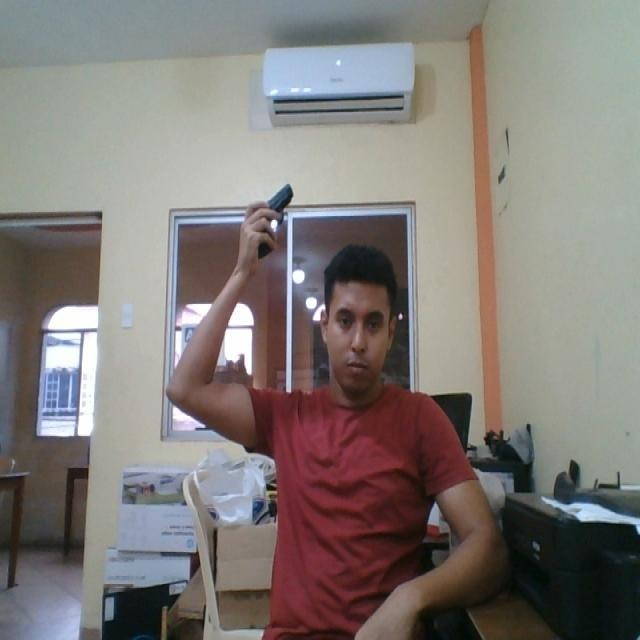weapon: (256, 182, 294, 260)
